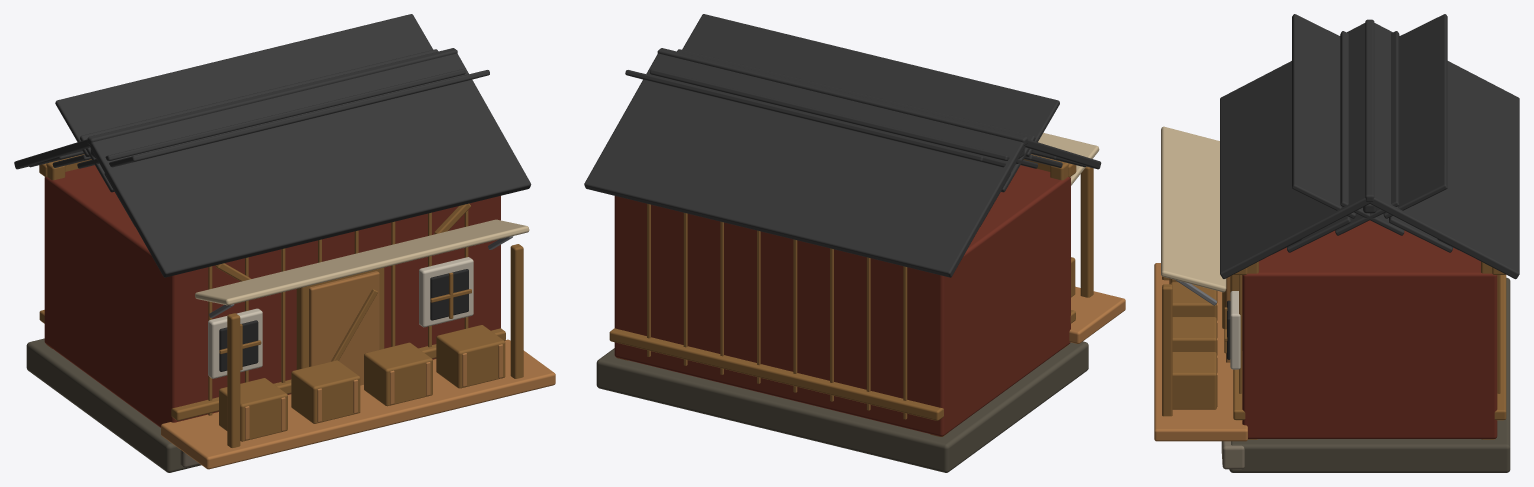
The model's file is trading-post.glb.
3 renders of one model, left to right at view 1: azimuth 30°, elevation 25°; view 2: azimuth 150°, elevation 25°; view 3: azimuth 270°, elevation 25°, orthographic.
Visible parts, largest first — view 1: trading-post-farm-roof-slate, trading-post-farm-barn-red-dark, trading-post-farm-wood-dark, trading-post-farm-wood-light, trading-post-farm-cloth, trading-post-farm-stone-dark, trading-post-farm-wood, trading-post-farm-trim, trading-post-farm-window; view 2: trading-post-farm-roof-slate, trading-post-farm-barn-red-dark, trading-post-farm-stone-dark, trading-post-farm-wood-dark, trading-post-farm-wood-light, trading-post-farm-cloth; view 3: trading-post-farm-roof-slate, trading-post-farm-barn-red-dark, trading-post-farm-stone-dark, trading-post-farm-wood-dark, trading-post-farm-cloth, trading-post-farm-wood-light, trading-post-farm-trim, trading-post-farm-stone.
Boxes of the visible parts, x1,y1,x2,y2 form: trading-post-farm-roof-slate: (14, 14, 531, 277); trading-post-farm-barn-red-dark: (44, 165, 500, 427); trading-post-farm-wood-dark: (39, 154, 523, 447); trading-post-farm-wood-light: (161, 339, 555, 469); trading-post-farm-cloth: (195, 219, 529, 305); trading-post-farm-stone-dark: (26, 338, 201, 472); trading-post-farm-wood: (309, 271, 379, 385); trading-post-farm-trim: (208, 257, 473, 378); trading-post-farm-window: (219, 269, 468, 371); trading-post-farm-roof-slate: (584, 14, 1101, 277); trading-post-farm-barn-red-dark: (614, 165, 1070, 436); trading-post-farm-stone-dark: (596, 341, 1088, 472); trading-post-farm-wood-dark: (609, 154, 1093, 436); trading-post-farm-wood-light: (1069, 286, 1125, 343); trading-post-farm-cloth: (1038, 133, 1099, 185); trading-post-farm-roof-slate: (1220, 14, 1519, 279); trading-post-farm-barn-red-dark: (1242, 220, 1497, 438); trading-post-farm-stone-dark: (1229, 277, 1510, 472); trading-post-farm-wood-dark: (1162, 261, 1506, 439); trading-post-farm-cloth: (1161, 126, 1226, 292); trading-post-farm-wood-light: (1154, 263, 1247, 441); trading-post-farm-trim: (1230, 291, 1240, 369); trading-post-farm-stone: (1221, 441, 1244, 469).
Bounding box in the file's own units: 5.57 × 4.27 × 4.87.
